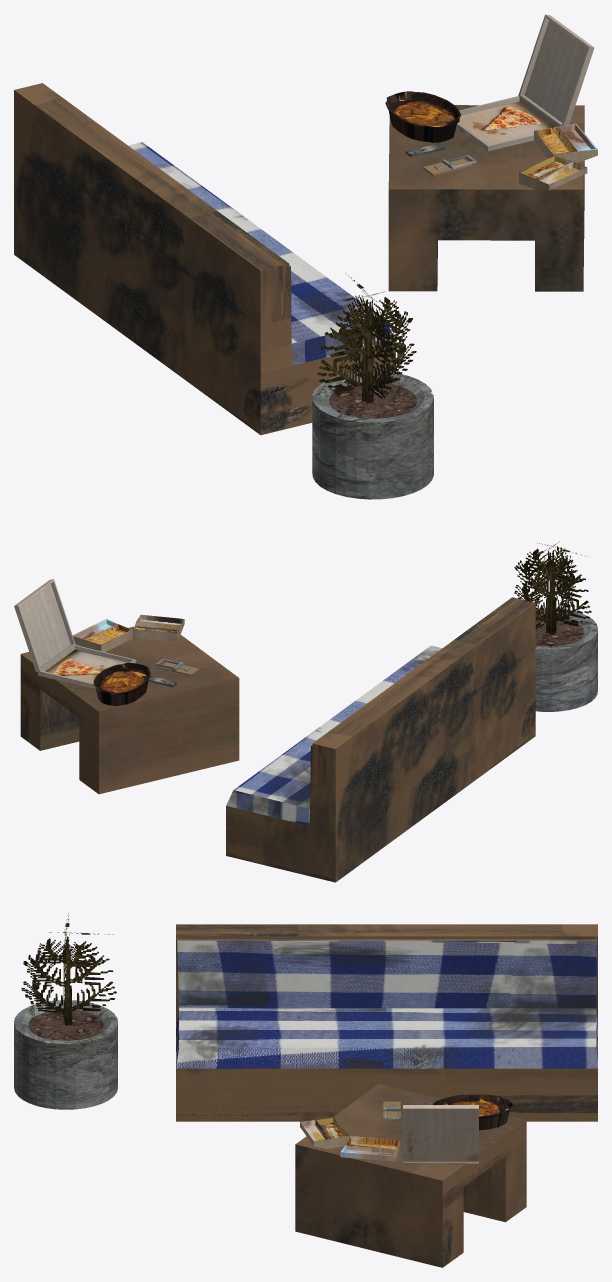
File: food table and couch .fbx
3 renders of one model, top to bottom at view 1: azimuth 30°, elevation 25°; view 2: azimuth 150°, elevation 25°; view 3: azimuth 270°, elevation 25°, orthographic. The views are drawn at different scales.
Parts seen in each view (by area): view 1: sofa, table, pot.001, pizza box, plant, kokinisto, fries, soublaki; view 2: sofa, table, pot.001, pizza box, plant, kokinisto, fries, soublaki; view 3: sofa, table, pot.001, pizza box, plant, kokinisto, fries, soublaki.
Part boxes in pixels (x1=…): sofa: x1=14, y1=83, x2=395, y2=435; table: x1=388, y1=105, x2=584, y2=291; pot.001: x1=312, y1=371, x2=433, y2=499; pizza box: x1=456, y1=14, x2=594, y2=151; plant: x1=317, y1=273, x2=416, y2=404; kokinisto: x1=385, y1=91, x2=460, y2=142; fries: x1=534, y1=123, x2=597, y2=162; soublaki: x1=519, y1=155, x2=587, y2=190; sofa: x1=226, y1=597, x2=535, y2=882; table: x1=20, y1=626, x2=239, y2=794; pot.001: x1=535, y1=608, x2=597, y2=711; pizza box: x1=14, y1=579, x2=136, y2=688; plant: x1=514, y1=541, x2=591, y2=634; kokinisto: x1=93, y1=662, x2=150, y2=705; fries: x1=72, y1=619, x2=132, y2=651; soublaki: x1=133, y1=614, x2=184, y2=641; sofa: x1=176, y1=924, x2=597, y2=1121; table: x1=295, y1=1083, x2=526, y2=1267; pot.001: x1=14, y1=1000, x2=117, y2=1109; pizza box: x1=403, y1=1105, x2=478, y2=1163; plant: x1=21, y1=913, x2=116, y2=1025; kokinisto: x1=433, y1=1094, x2=512, y2=1130; fries: x1=340, y1=1136, x2=400, y2=1161; soublaki: x1=300, y1=1117, x2=348, y2=1148.
Bounding box in the file's own units: 925 × 329 × 1122.
13 materials, 13 textured.
